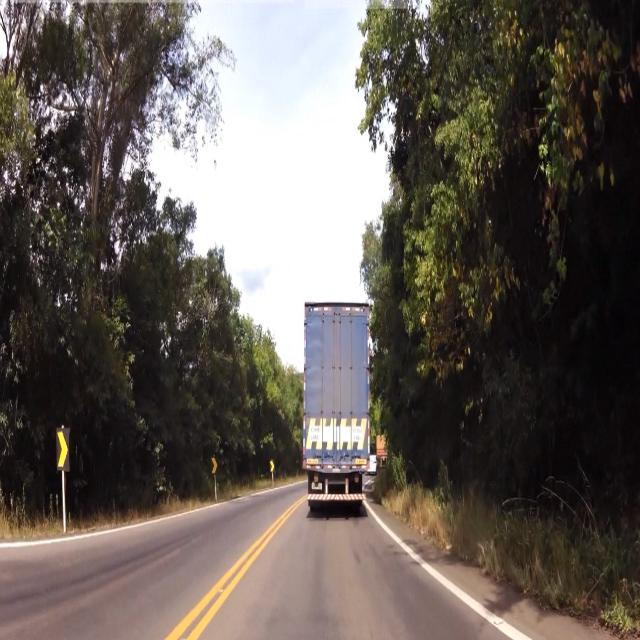Del: (52, 426, 71, 472), (211, 458, 218, 477)
